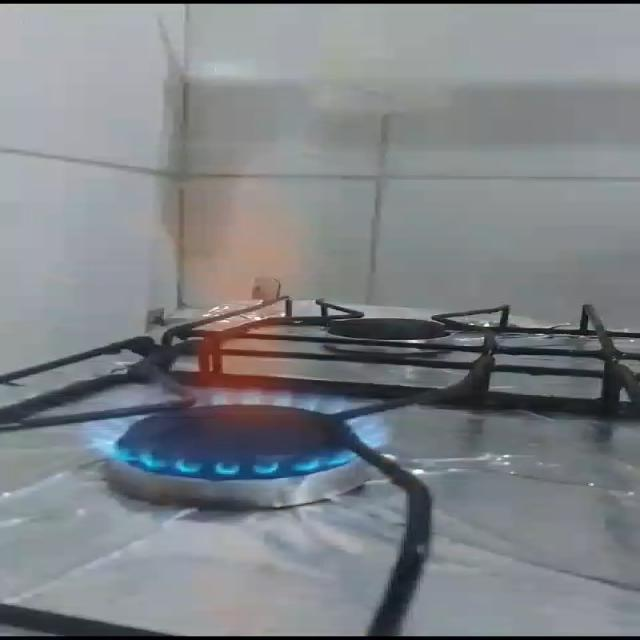fogo-ypXI: (75, 167, 397, 480)
